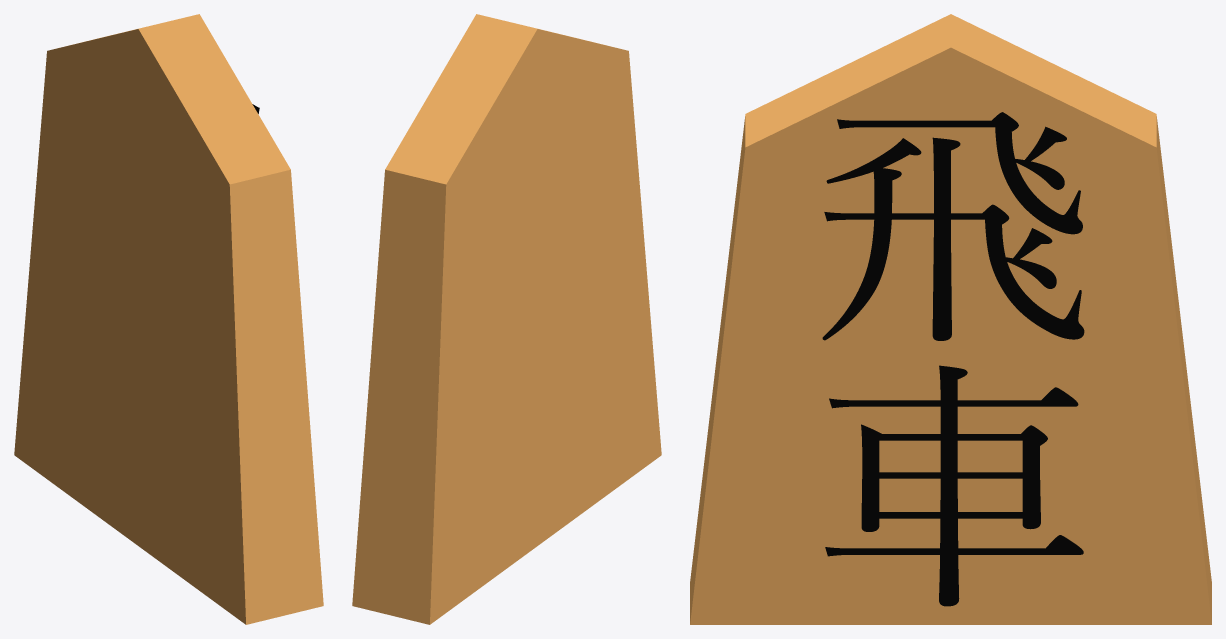
File: JapaneseChessRook.fbx
The picture shows the model from 3 angles, left to right: view 1: azimuth 30°, elevation 25°; view 2: azimuth 150°, elevation 25°; view 3: azimuth 270°, elevation 25°; orthographic projection. The views are drawn at different scales.
Visible parts, largest first — view 1: Cube; view 2: Cube; view 3: Cube, Text.
Part boxes in pixels (x1=…): Cube: x1=14, y1=14, x2=323, y2=624; Cube: x1=352, y1=14, x2=661, y2=624; Cube: x1=690, y1=14, x2=1211, y2=624; Text: x1=822, y1=112, x2=1084, y2=606.
Size of the model in its own units: 39.26 by 242 by 200.
2 materials, 2 textured.
